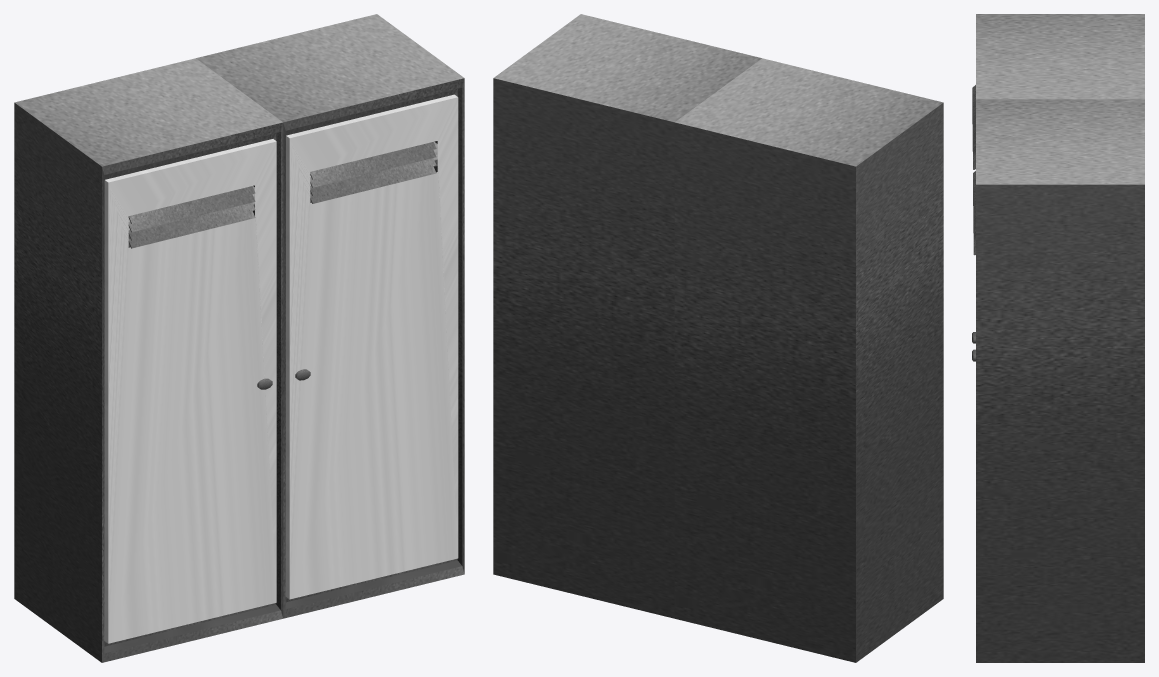
The model's file is Armario 1.fbx.
The picture shows the model from 3 angles, left to right: view 1: azimuth 30°, elevation 25°; view 2: azimuth 150°, elevation 25°; view 3: azimuth 270°, elevation 25°; orthographic projection. The views are drawn at different scales.
Parts seen in each view (by area): view 1: Locker; view 2: Locker; view 3: Locker.
Boxes of the visible parts, x1=… form: Locker: x1=14, y1=14, x2=464, y2=662; Locker: x1=493, y1=14, x2=943, y2=662; Locker: x1=972, y1=14, x2=1144, y2=662.
Bounding box in the file's own units: 0.5756 × 0.7527 × 0.2466.
Materials: 2 (2 with a texture image).
